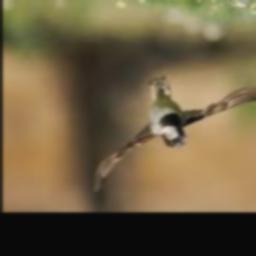Sparrow: (93, 76, 256, 192)
